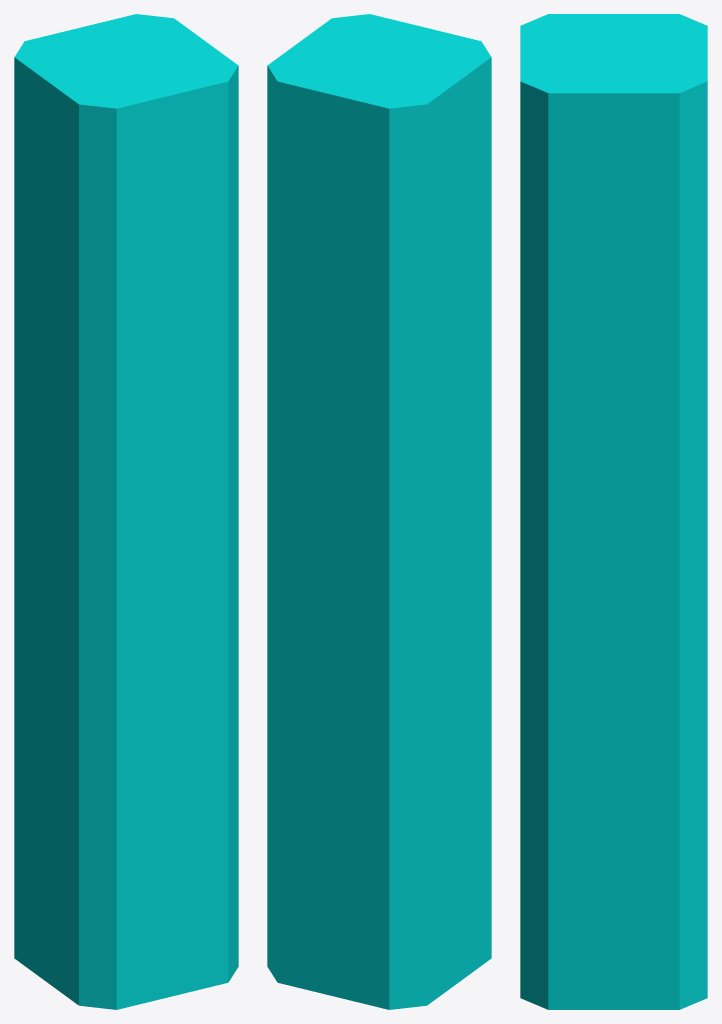
The model's file is Gate_Corner.fbx.
3 renders of one model, left to right at view 1: azimuth 30°, elevation 25°; view 2: azimuth 150°, elevation 25°; view 3: azimuth 270°, elevation 25°, orthographic.
Parts seen in each view (by area): view 1: Gate_Corner; view 2: Gate_Corner; view 3: Gate_Corner.
Part boxes in pixels (<box>): Gate_Corner: <box>14,14,238,1009</box>; Gate_Corner: <box>267,14,491,1009</box>; Gate_Corner: <box>520,14,707,1009</box>.
Size of the model in its own units: 1 by 5.4 by 1.
